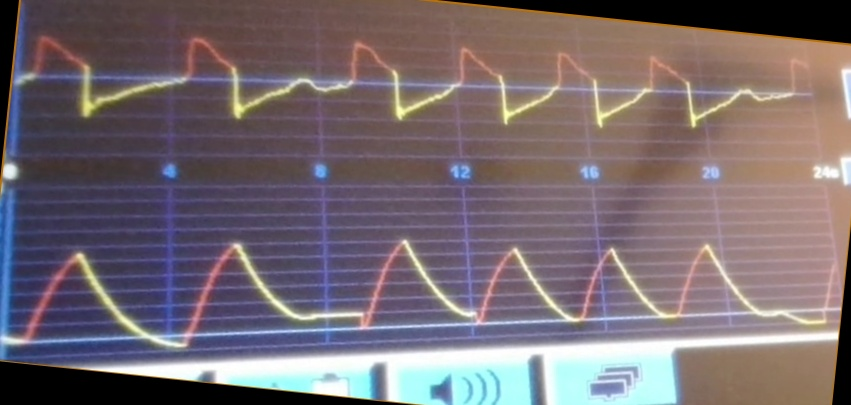Ineffective_effort Flow: (19, 29, 805, 134)
Ineffective_effort Volume: (11, 228, 834, 350)
